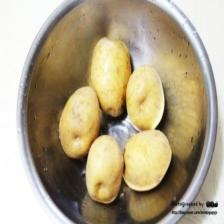Potato: (92, 37, 134, 118), (58, 85, 102, 158), (121, 130, 173, 190), (125, 63, 167, 133), (85, 133, 124, 203)
